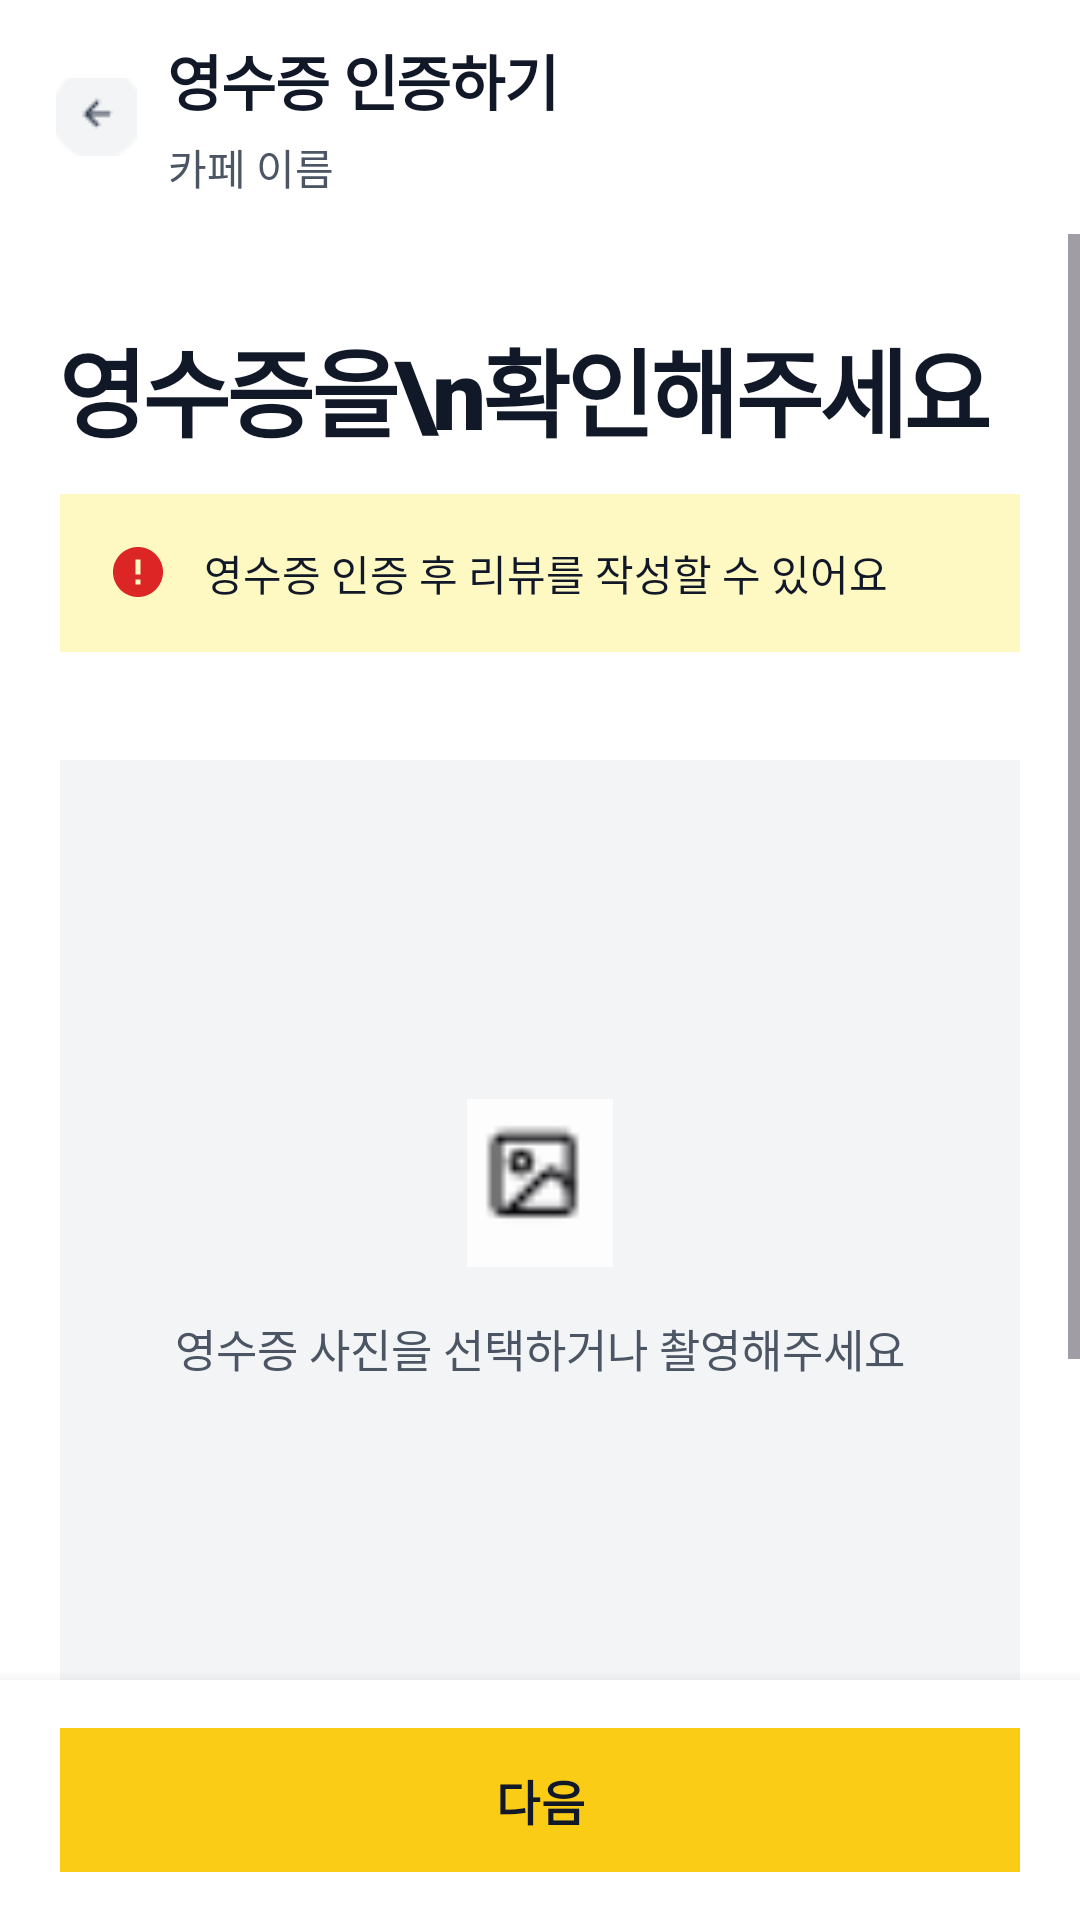

Icon click points for this 1080*1920 phone screenshot, format (x=x, y=y):
뒤로가기: (x=96, y=117)
알림: (x=138, y=572)
이미지 아이콘: (x=533, y=1173)
